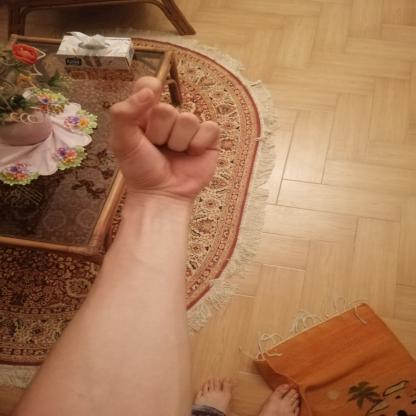FAA: (92, 67, 235, 212)
